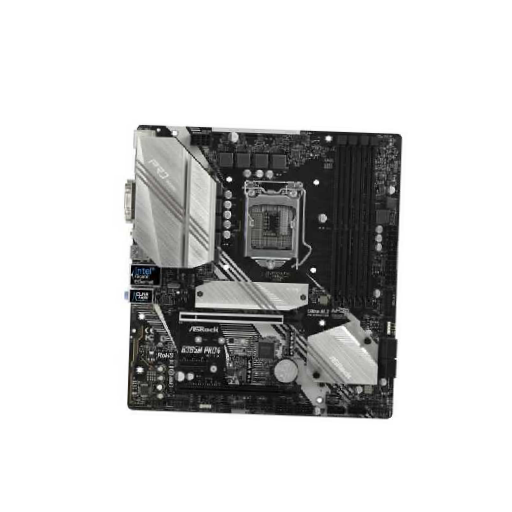CPU: (244, 184, 306, 269)
GPU: (171, 382, 302, 399), (177, 309, 293, 328)
MOTHERBOARD: (125, 124, 399, 419)
RAM: (331, 134, 381, 310)
SSD: (243, 355, 253, 383), (288, 328, 297, 357)
